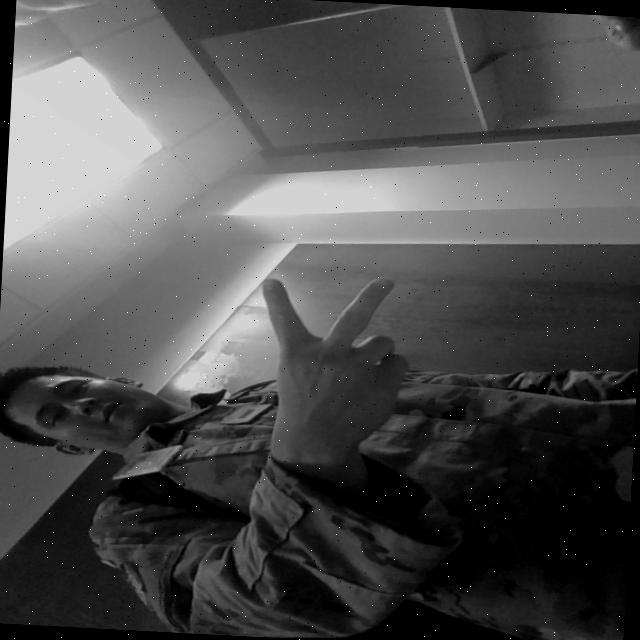paper: (242, 267, 418, 465)
